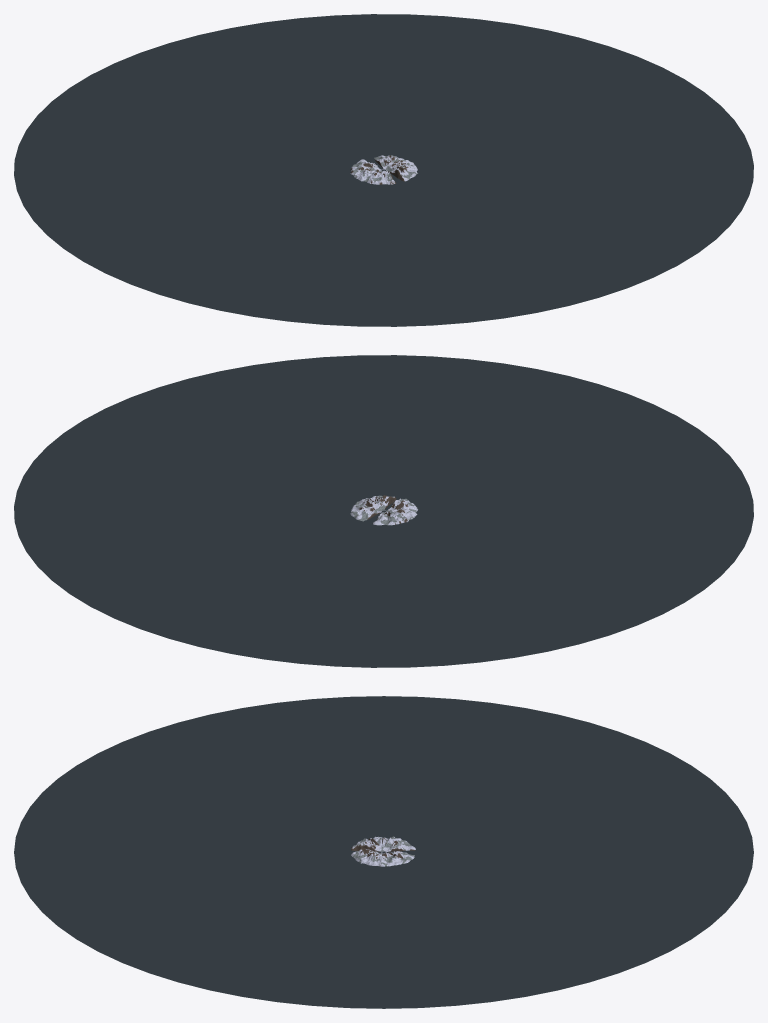
File: backdrop_near_rect_mires_winter.glb
3 renders of one model, top to bottom at view 1: azimuth 30°, elevation 25°; view 2: azimuth 150°, elevation 25°; view 3: azimuth 270°, elevation 25°, orthographic.
Parts seen in each view (by area): view 1: water_N, water_S, water_W, water_E; view 2: water_N, water_S, water_W, water_E; view 3: water_E, water_N, water_W, water_S, near_land_E.
Part boxes in pixels (left/top/right/bottom): water_N: left=26, top=14, right=479, bottom=170; water_S: left=288, top=170, right=741, bottom=326; water_W: left=14, top=130, right=383, bottom=321; water_E: left=384, top=19, right=753, bottom=210; water_N: left=26, top=511, right=479, bottom=667; water_S: left=288, top=355, right=741, bottom=511; water_W: left=384, top=471, right=753, bottom=662; water_E: left=14, top=360, right=383, bottom=551; water_E: left=123, top=852, right=644, bottom=1008; water_N: left=384, top=742, right=753, bottom=962; water_W: left=123, top=696, right=644, bottom=852; water_S: left=14, top=742, right=383, bottom=962; near_land_E: left=360, top=851, right=407, bottom=866.
Bounding box in the file's own units: 6000 × 168 × 6000.
5 materials, 4 textured.
